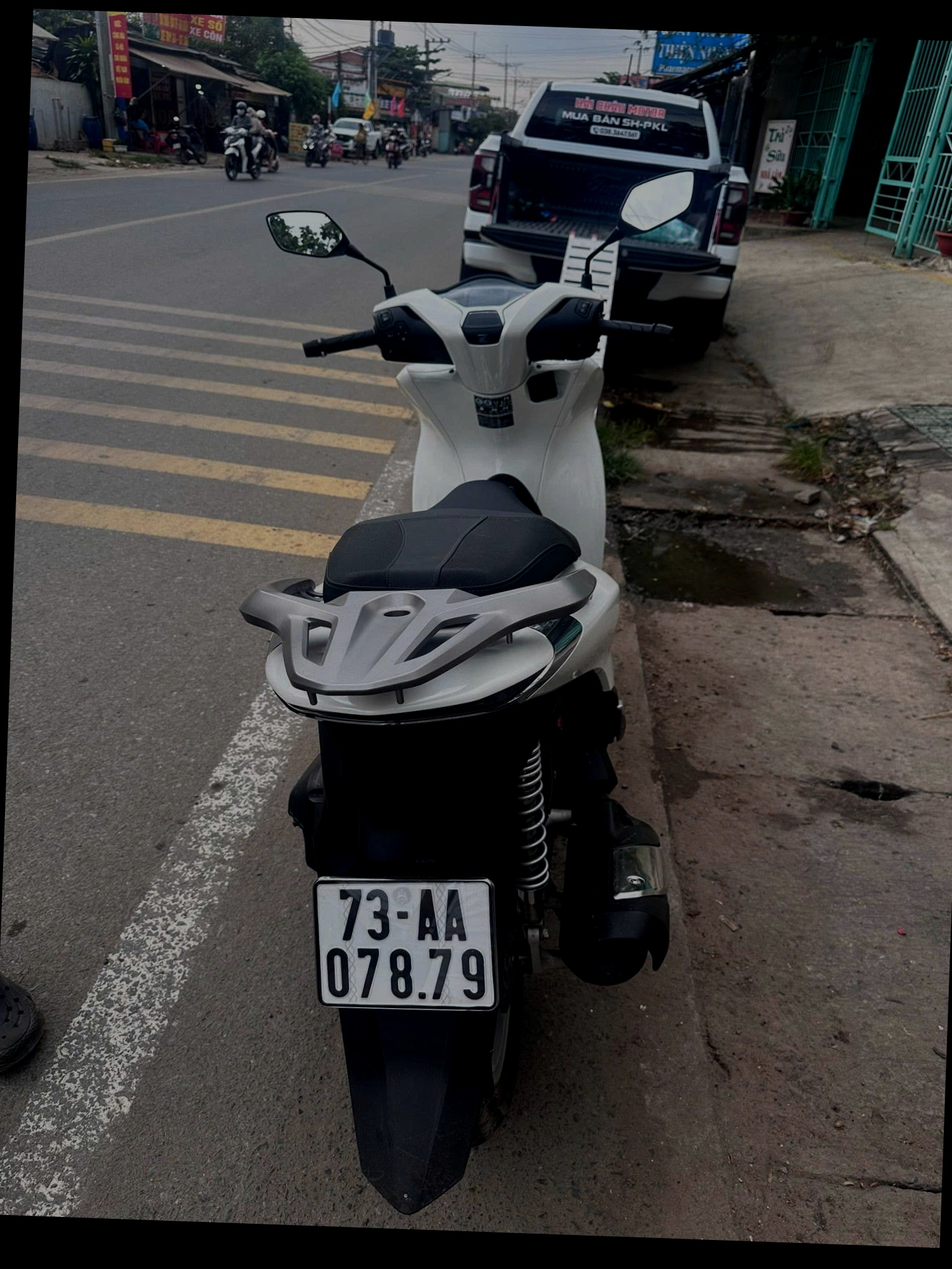Bien-so: (315, 913, 506, 1080)
